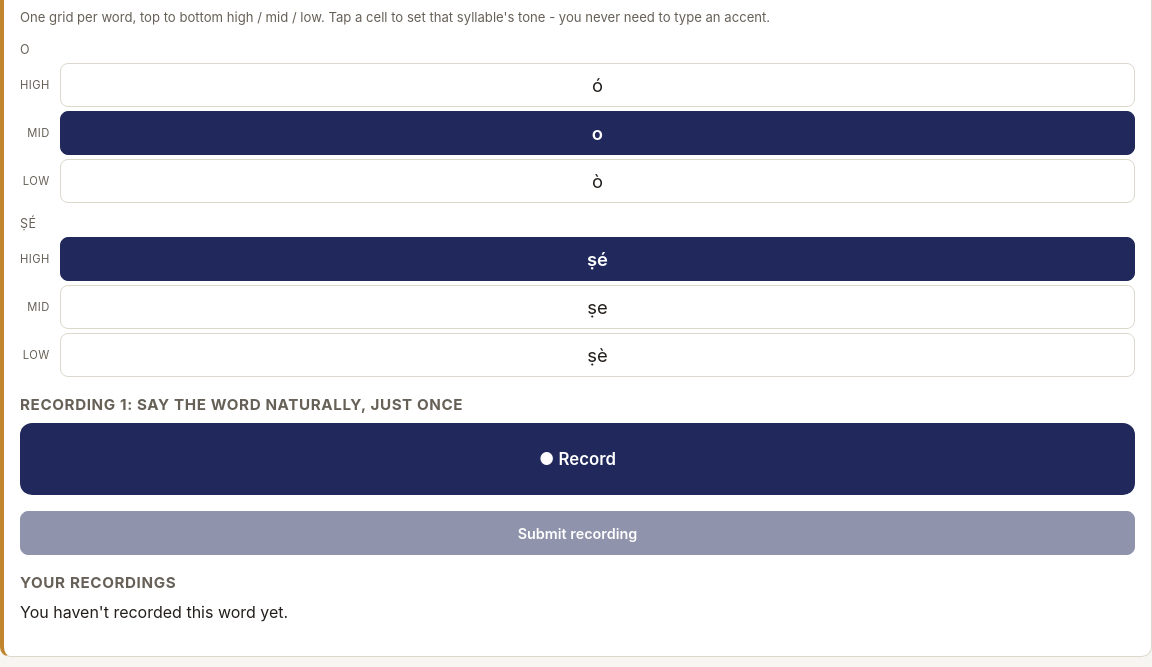
it: AudioRecording › gives a phrase one tone grid per word, which is the whole population that had none
(page scrolled)
Expected: the element named "Tone of syllable 1 of word 1" is shown, [60, 63, 1135, 203]
Expected: the element named "Tone of syllable 1 of word 2" is shown, [60, 237, 1135, 377]
Click the button "● Record".
click(578, 459)  # box [20, 423, 1135, 495]
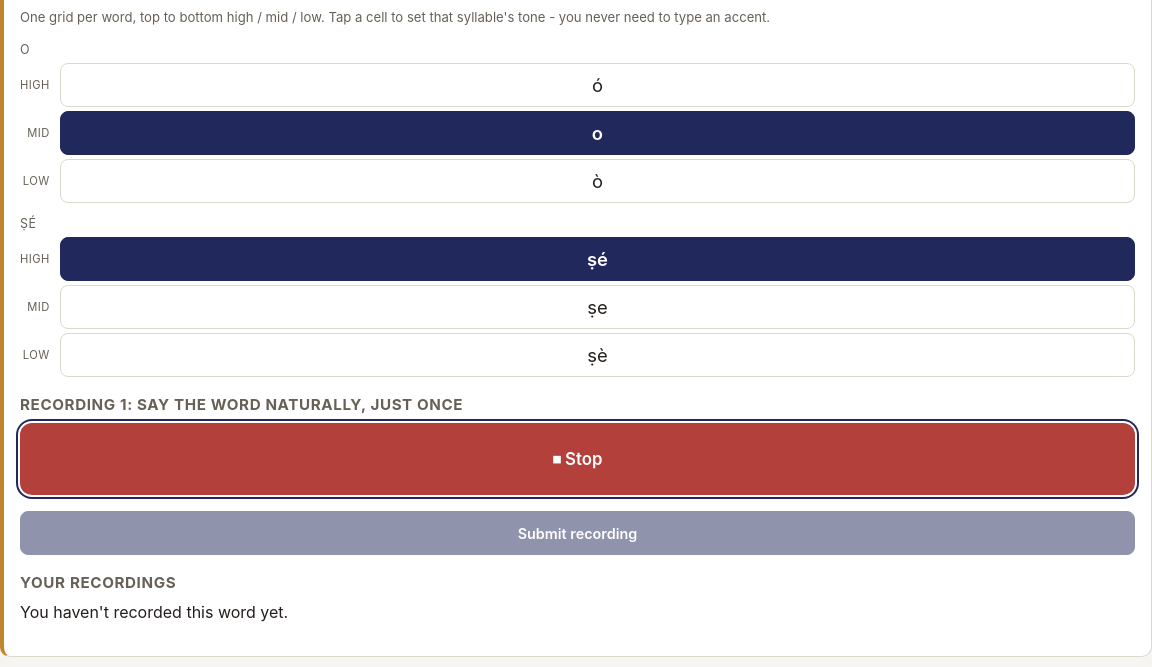
Click the button "⏹ Stop".
click(578, 459)  # box [20, 423, 1135, 495]
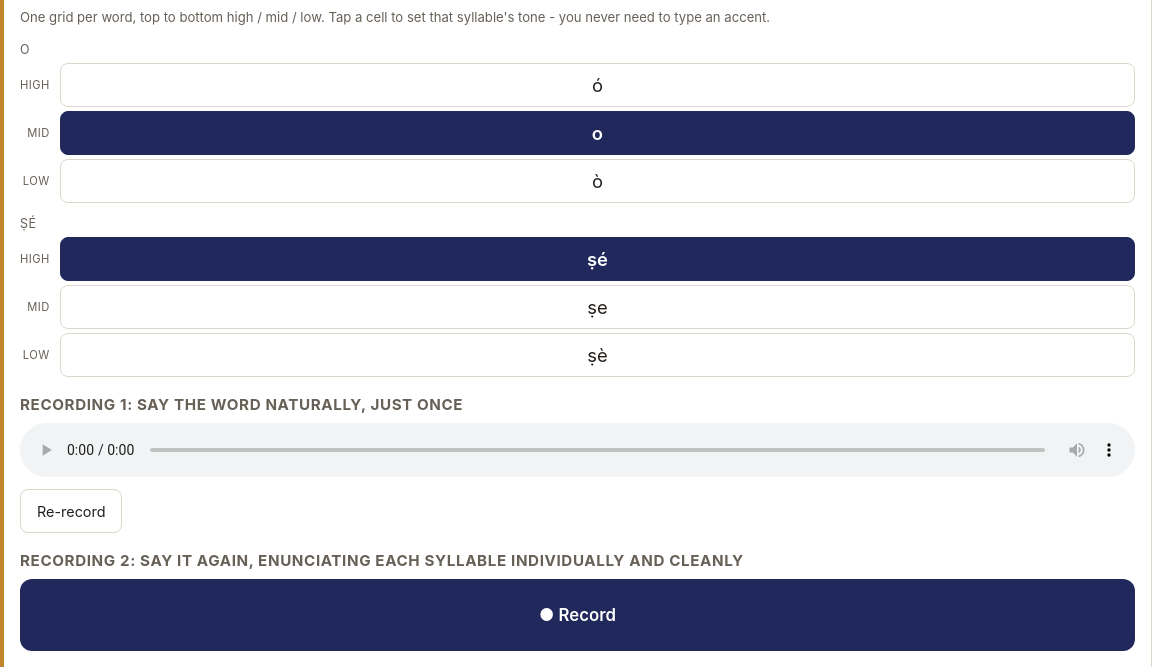
Click the button "● Record".
click(578, 615)  # box [20, 579, 1135, 651]
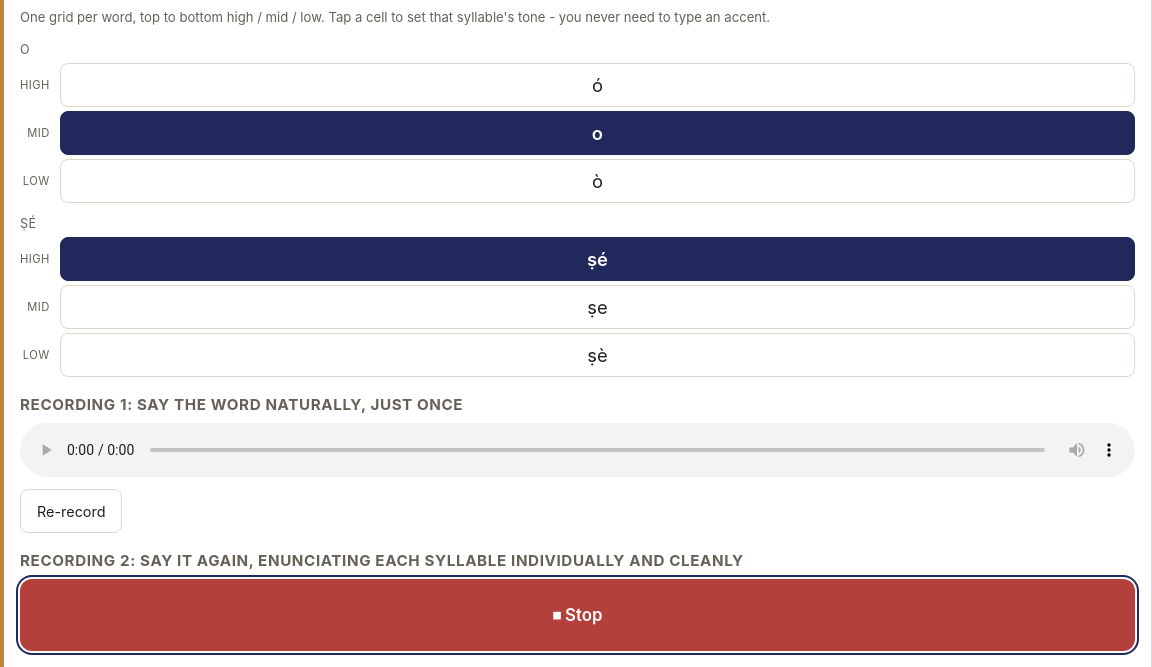
Click the button "⏹ Stop".
click(578, 615)  # box [20, 579, 1135, 651]
(page scrolled)
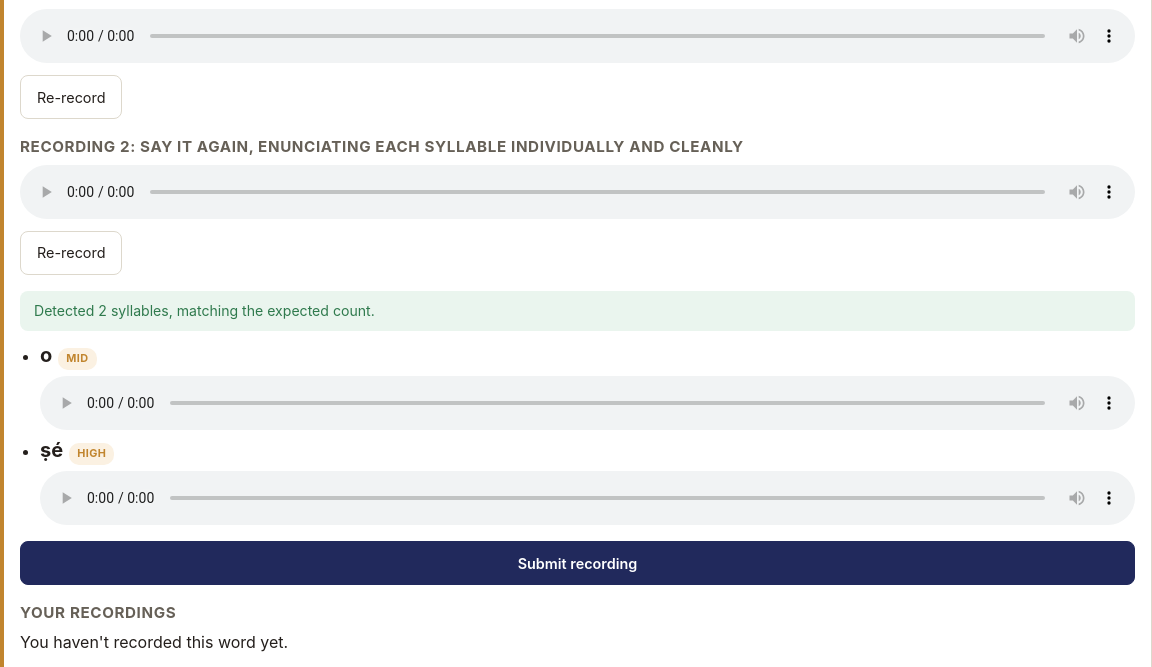
Now the text "Detected 2 syllables, matching the expected count." is shown, box [20, 291, 1135, 331]
